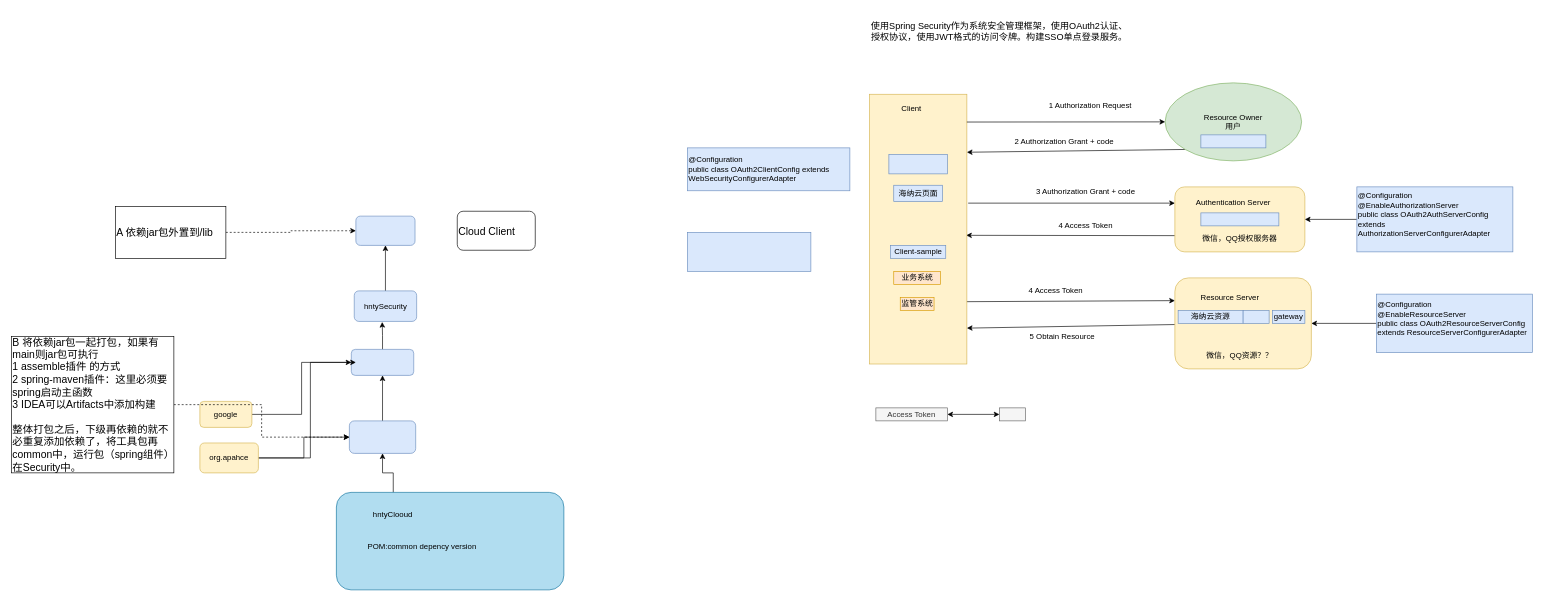
Some shapes in this 1544 by 601 pixel diagram are drawn without their labels. Each missing label, with the centre of its shape:
"cloud common" belongs at (x=382, y=436).
"hntySys" belongs at (x=382, y=362).
"JWT" belongs at (x=1012, y=414).
"public class WebSecurityConfig extends WebSecurityConfigurerAdapter" belongs at (x=749, y=251).
"repo" belongs at (x=1255, y=316).
"utitlization" belongs at (x=385, y=230).
"仪器，海纳云用户" belongs at (x=1233, y=141).
"海纳云小程序" belongs at (x=917, y=164).
"海纳云授权服务器sso" belongs at (x=1239, y=219).
